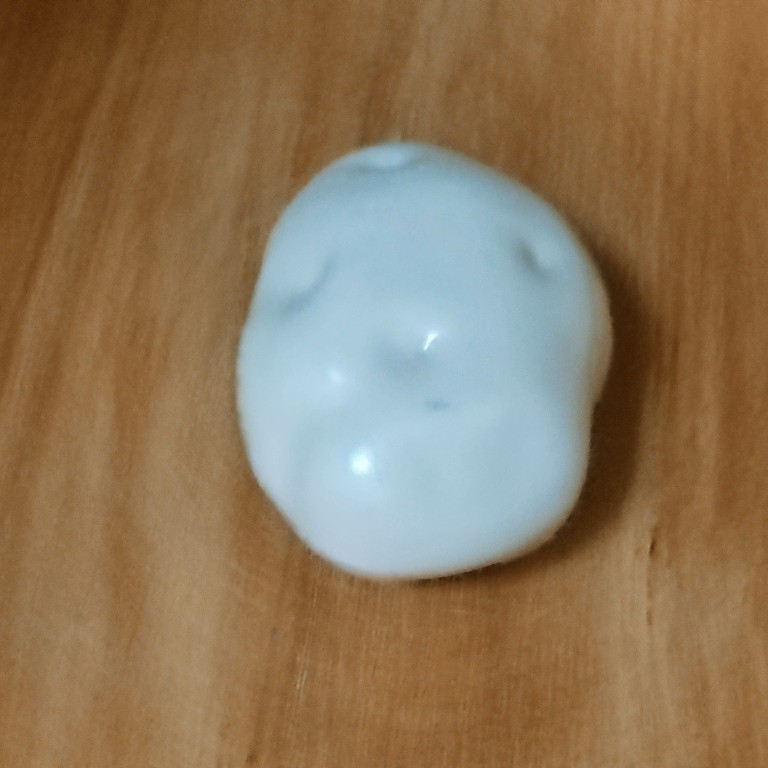fruit_potato: (226, 129, 614, 592)
